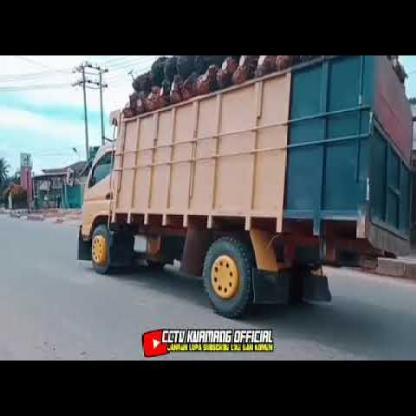truck: (73, 1, 416, 315)
